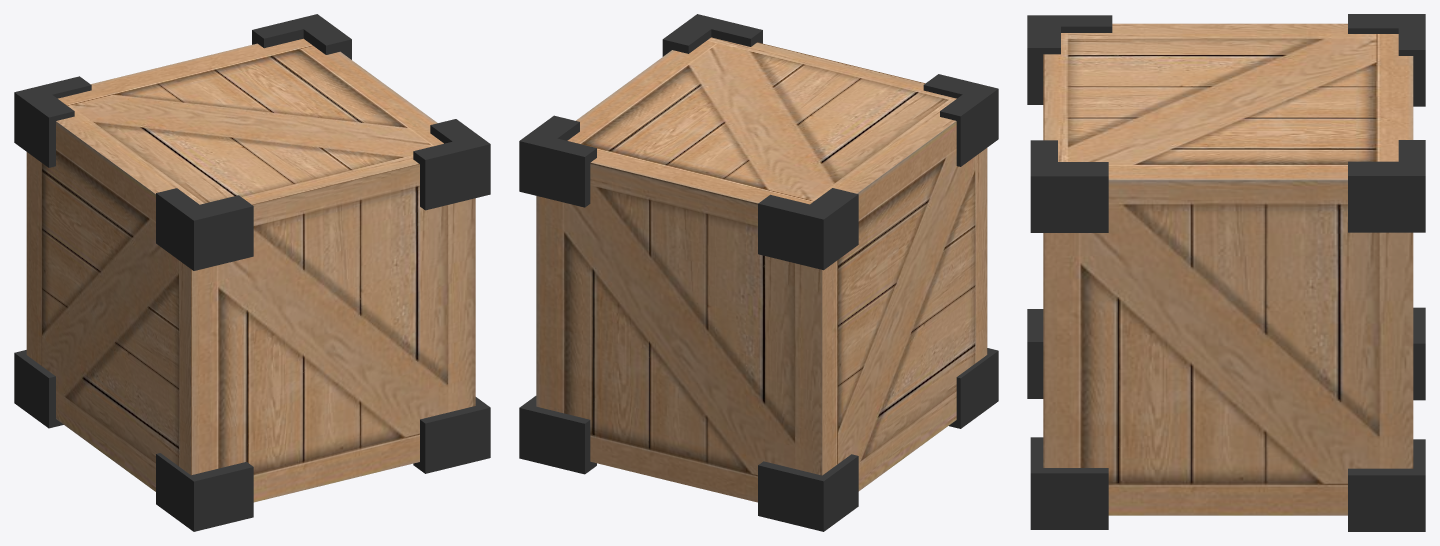
Rendered from Holzkiste.fbx.
3 views of the same model, side by side, from view 1: azimuth 30°, elevation 25°; view 2: azimuth 150°, elevation 25°; view 3: azimuth 270°, elevation 25° (orthographic). The views are drawn at different scales.
Visible parts, largest first — view 1: pCube12, pCube7, pCube6, pCube10, pCube8, pCube4, pCube5, pCube11; view 2: pCube12, pCube4, pCube5, pCube11, pCube9, pCube7, pCube6, pCube10; view 3: pCube12, pCube10, pCube11, pCube9, pCube8, pCube7, pCube4, pCube6, pCube5.
Boxes of the visible parts, x1,y1,x2,y2 form: pCube12: (26,38,475,502); pCube7: (156,188,253,270); pCube6: (156,453,253,531); pCube10: (413,119,490,210); pCube8: (413,397,490,473); pCube4: (14,76,91,167); pCube5: (14,350,63,428); pCube11: (252,14,351,59); pCube12: (536,37,987,502); pCube4: (758,188,858,270); pCube5: (758,454,858,531); pCube11: (519,115,596,207); pCube9: (519,396,596,474); pCube7: (923,74,998,166); pCube6: (949,348,998,428); pCube10: (662,14,762,56); pCube12: (1043,23,1413,515); pCube10: (1030,140,1108,232); pCube11: (1348,140,1425,232); pCube9: (1348,439,1425,531); pCube8: (1030,437,1108,529); pCube7: (1027,15,1112,104); pCube4: (1348,14,1425,106); pCube6: (1027,309,1043,398); pCube5: (1413,307,1425,400).
Bounding box in the file's own units: 10.65 × 10.61 × 10.76.
Materials: 2 (1 with a texture image).
